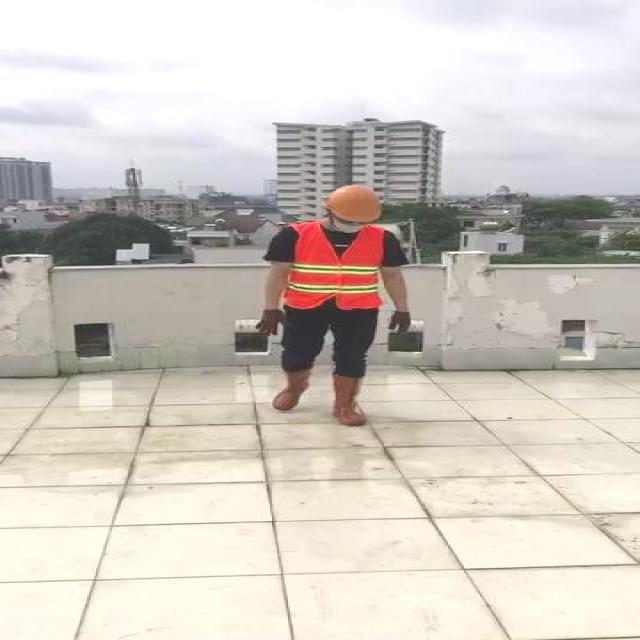boots: (331, 373, 373, 426), (270, 367, 311, 412)
face_mask: (326, 212, 374, 236)
hand_glove: (256, 310, 292, 336), (388, 310, 412, 336)
head_helmet: (327, 184, 381, 222)
person: (248, 182, 415, 432)
vest: (286, 225, 381, 310)
